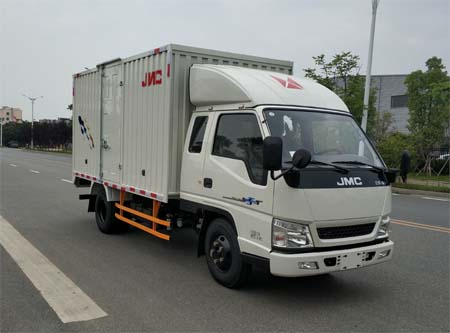smalltruck: (54, 26, 402, 289)
